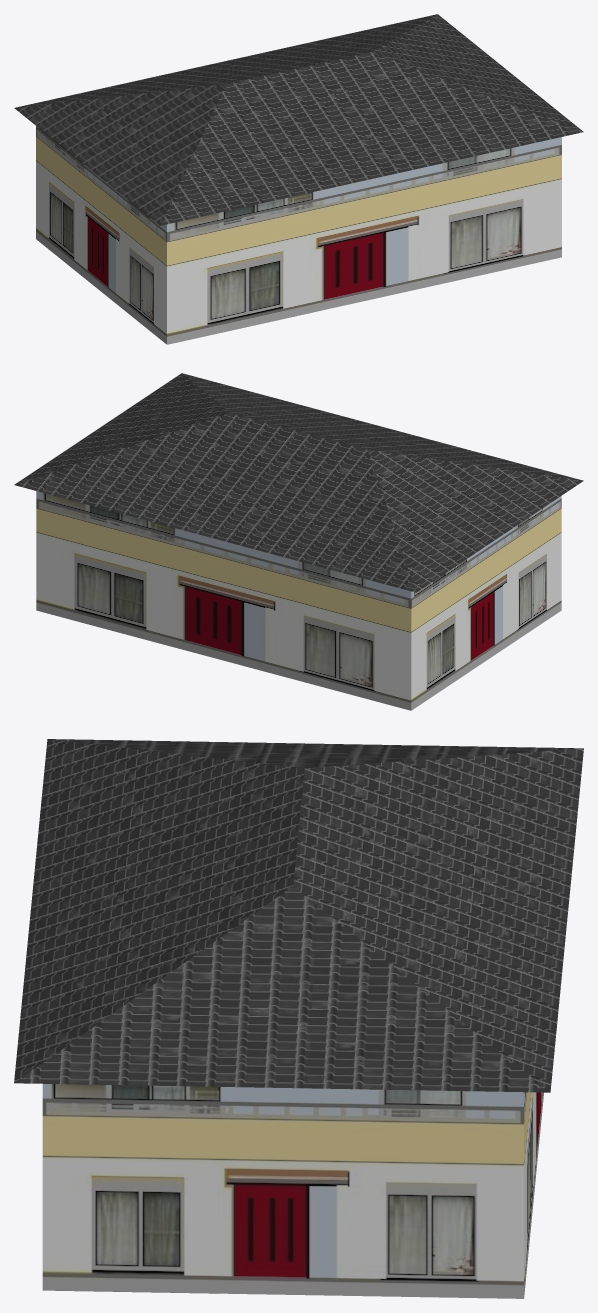
3 views of the same model, one above another, from view 1: azimuth 30°, elevation 25°; view 2: azimuth 150°, elevation 25°; view 3: azimuth 270°, elevation 25° (orthographic). The views are drawn at different scales.
Visible parts, largest first — view 1: CityEngineMaterial_16_m, CityEngineMaterial_15_m; view 2: CityEngineMaterial_16_m, CityEngineMaterial_15_m; view 3: CityEngineMaterial_16_m, CityEngineMaterial_15_m.
Part boxes in pixels (box(x1,y1,x2,y2)): CityEngineMaterial_16_m: box(14, 14, 583, 225); CityEngineMaterial_15_m: box(36, 126, 561, 344); CityEngineMaterial_16_m: box(14, 373, 583, 592); CityEngineMaterial_15_m: box(36, 491, 561, 710); CityEngineMaterial_16_m: box(14, 739, 583, 1092); CityEngineMaterial_15_m: box(42, 1084, 543, 1298).
Bounding box in the file's own units: 28.5 × 11.54 × 19.41.
